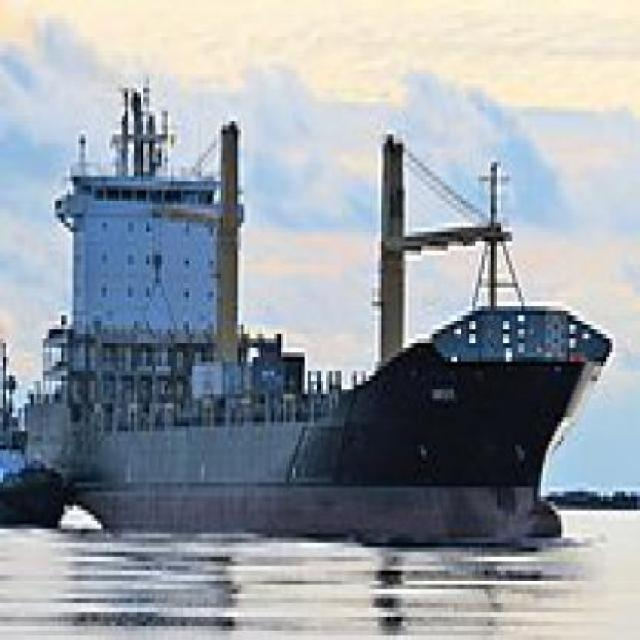container: (20, 66, 623, 586)
